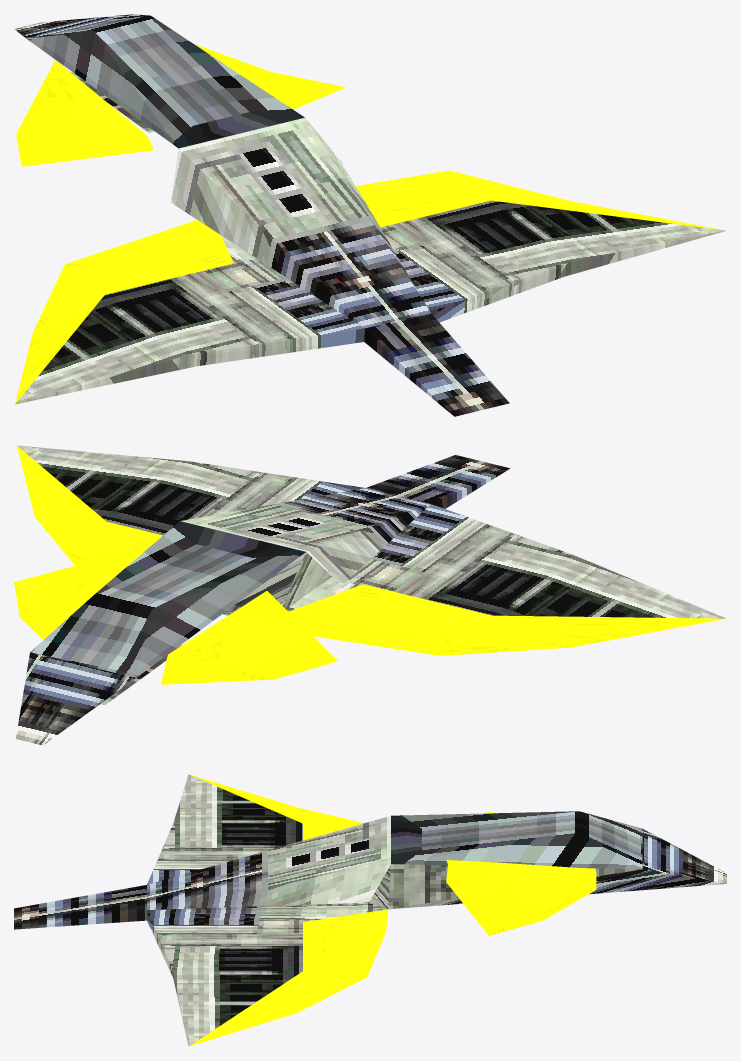
File: tvette_3db.gltf
3 views of the same model, one above another, from view 1: azimuth 30°, elevation 25°; view 2: azimuth 150°, elevation 25°; view 3: azimuth 270°, elevation 25° (orthographic). The views are drawn at different scales.
Parts seen in each view (by area): view 1: tvette.3db; view 2: tvette.3db; view 3: tvette.3db.
Boxes of the visible parts, <box> form: tvette.3db: <box>14,14,726,416</box>; tvette.3db: <box>14,445,726,745</box>; tvette.3db: <box>14,774,726,1046</box>.
Size of the model in its own units: 8.09 by 1.34 by 8.95.
Materials: 2 (2 with a texture image).
